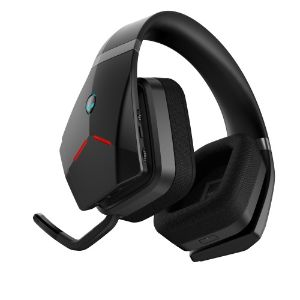headset: (26, 9, 280, 272)
